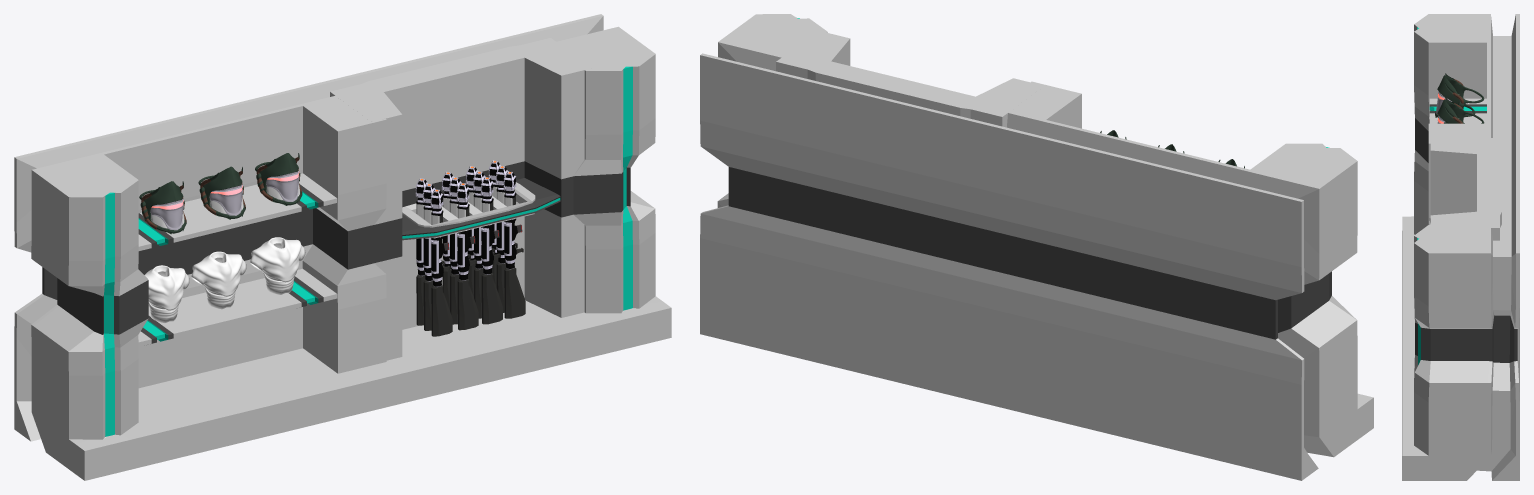
File: Armory.fbx
3 renders of one model, left to right at view 1: azimuth 30°, elevation 25°; view 2: azimuth 150°, elevation 25°; view 3: azimuth 270°, elevation 25°, orthographic. The views are drawn at different scales.
Parts seen in each view (by area): view 1: Cube, Cube.002, Cube.001, Cube.003, Body.001, Body.003, Body.002, Cube.177, Cube.176, Cube.175, Cube.060, Cube.074 (+2 smaller); view 2: Cube, Cube.002; view 3: Cube, Cube.002, Cube.177, Cube.001, Cube.175.
Part boxes in pixels (x1,y1,x2,y2): Cube: [14, 14, 671, 480]; Cube.002: [330, 38, 591, 360]; Cube.001: [138, 173, 337, 346]; Cube.003: [402, 178, 560, 240]; Body.001: [191, 251, 246, 309]; Body.003: [250, 237, 305, 294]; Body.002: [144, 265, 189, 322]; Cube.177: [139, 181, 186, 234]; Cube.176: [255, 153, 302, 205]; Cube.175: [198, 166, 245, 219]; Cube.060: [431, 285, 452, 336]; Cube.074: [504, 267, 525, 318]; Cube: [700, 14, 1373, 480]; Cube.002: [776, 30, 1044, 127]; Cube: [1402, 14, 1519, 480]; Cube.002: [1430, 138, 1501, 240]; Cube.177: [1435, 73, 1484, 117]; Cube.001: [1429, 98, 1486, 224]; Cube.175: [1437, 97, 1484, 123].
Bounding box in the file's own units: 18780 × 8327 × 3904.
